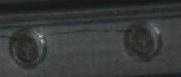joints: (121, 18, 161, 60), (8, 28, 46, 68)
